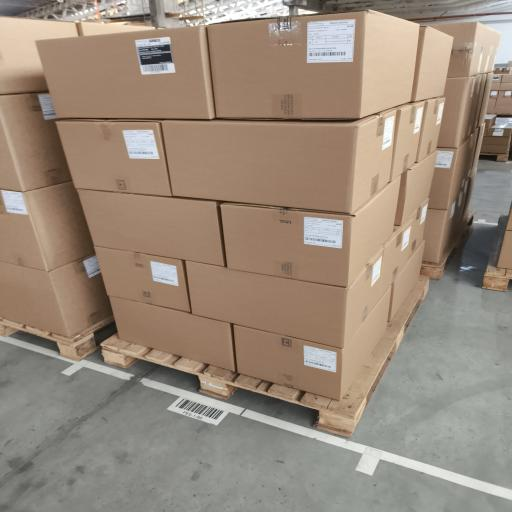pallet: (102, 276, 428, 436), (0, 316, 116, 361), (421, 211, 475, 280), (483, 215, 511, 291), (480, 153, 508, 162)
